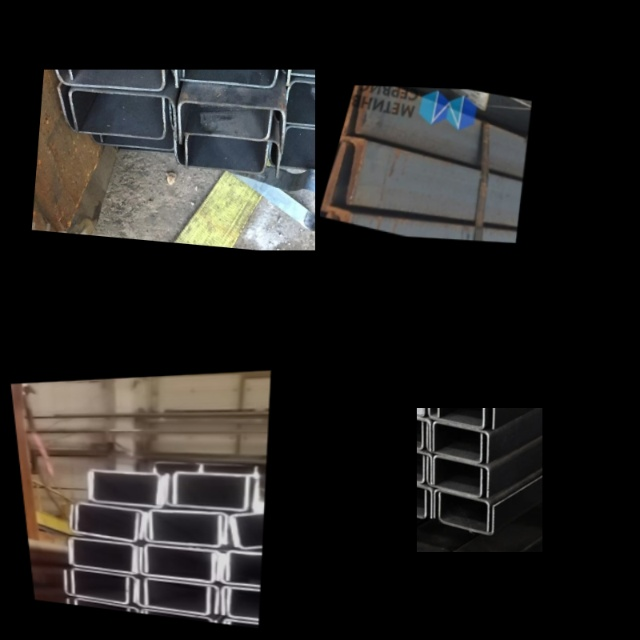Shveller: (56, 88, 168, 137), (69, 91, 178, 140), (178, 104, 285, 153), (184, 136, 281, 178), (169, 101, 271, 138), (174, 137, 268, 172), (166, 474, 249, 511), (175, 472, 256, 509), (323, 136, 366, 201), (146, 545, 220, 581), (44, 70, 166, 91), (69, 505, 140, 541), (138, 579, 209, 615), (145, 579, 218, 614), (141, 547, 214, 582), (151, 510, 226, 544), (92, 472, 164, 507), (75, 503, 144, 539), (145, 513, 220, 546), (87, 471, 159, 504), (71, 540, 138, 574), (434, 456, 488, 498), (440, 493, 495, 534), (67, 538, 135, 571), (434, 490, 488, 531), (64, 570, 129, 604), (433, 423, 488, 463), (427, 457, 482, 497), (70, 569, 135, 602), (427, 423, 482, 462), (62, 70, 179, 88), (276, 80, 315, 126), (270, 131, 315, 170), (167, 70, 279, 85), (181, 70, 290, 85), (279, 128, 315, 167), (285, 83, 315, 126), (438, 408, 494, 429), (429, 408, 484, 428)
